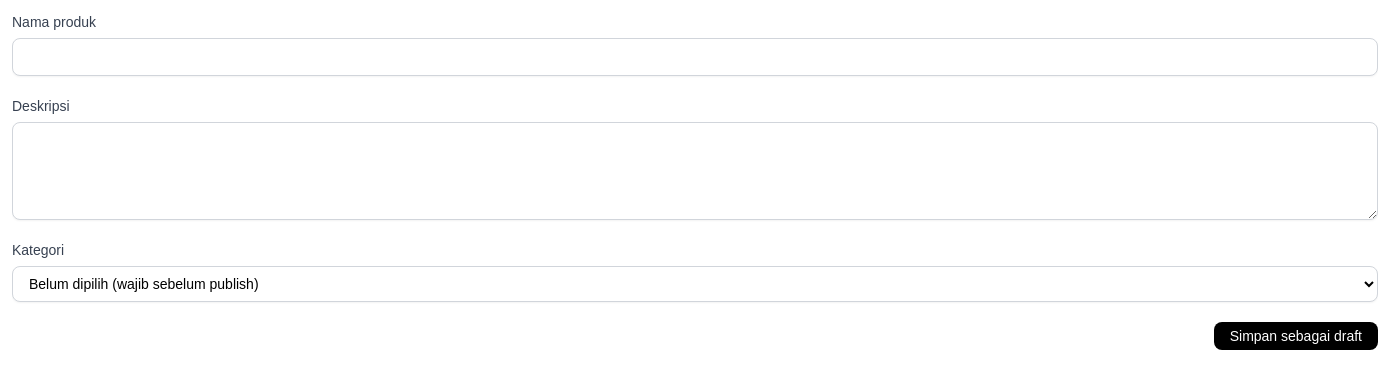
Test: ProductCreateForm › Alur Submit Sukses › mengirim payload terformat, invalidate cache, reset form, dan memanggil onSuccess
Type "  Keyboard Mekanikal  " into the field labelled "Nama produk" at (695, 57), box top-left (12, 38), bottom-right (1378, 76)
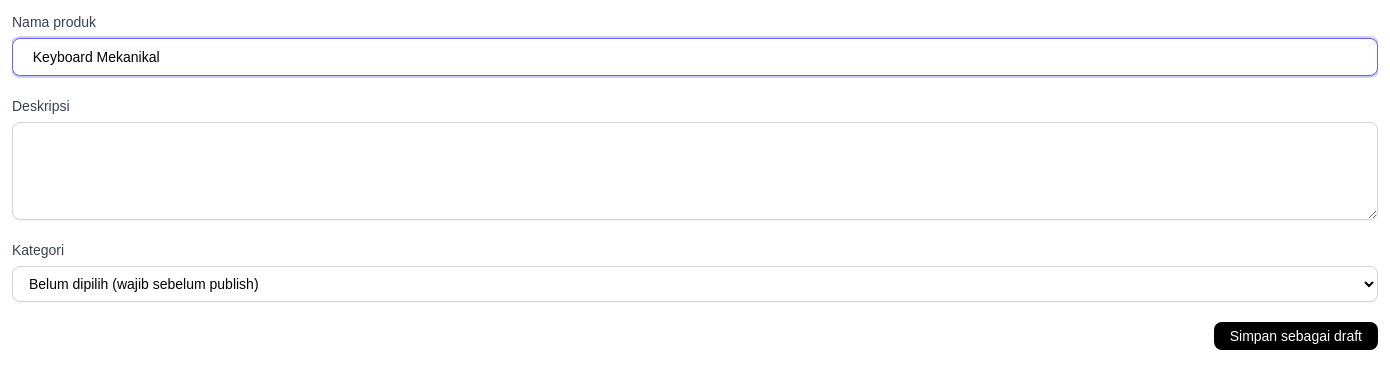
Type "  Switch tactile  " into the text box labelled "Deskripsi" at (695, 171), box top-left (12, 122), bottom-right (1378, 220)
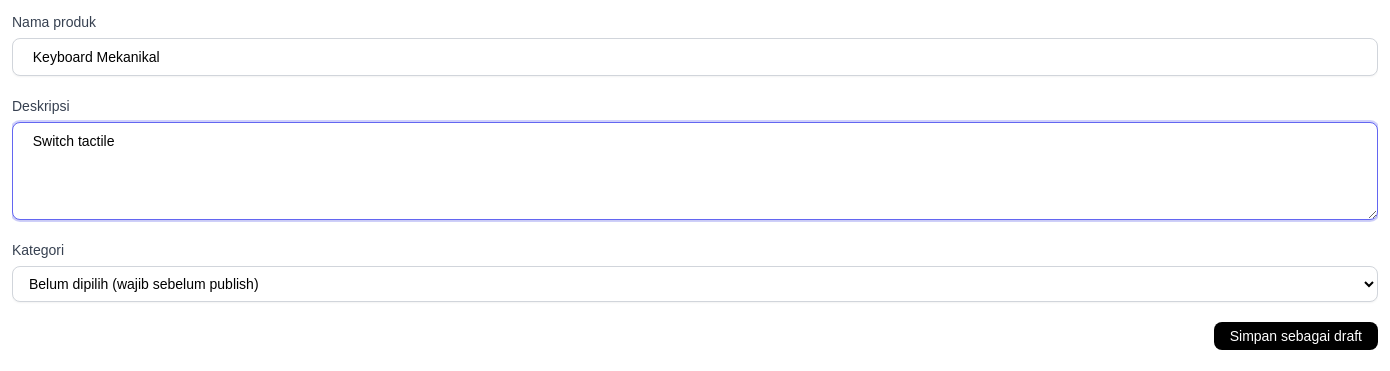
Select "Elektronik" in the dropdown labelled "Kategori" at (695, 284), box top-left (12, 266), bottom-right (1378, 302)
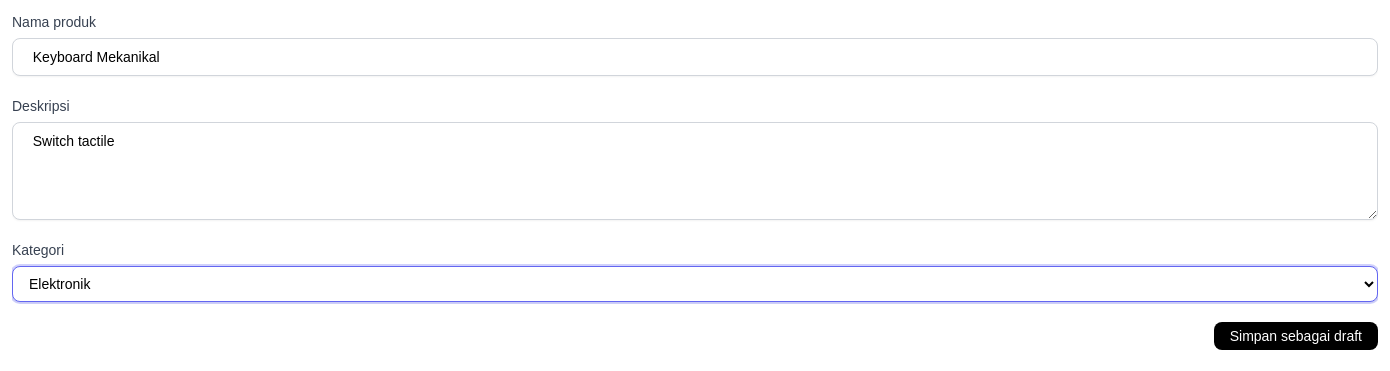
Click the button "Simpan sebagai draft" at (1296, 336), box top-left (1214, 322), bottom-right (1378, 350)
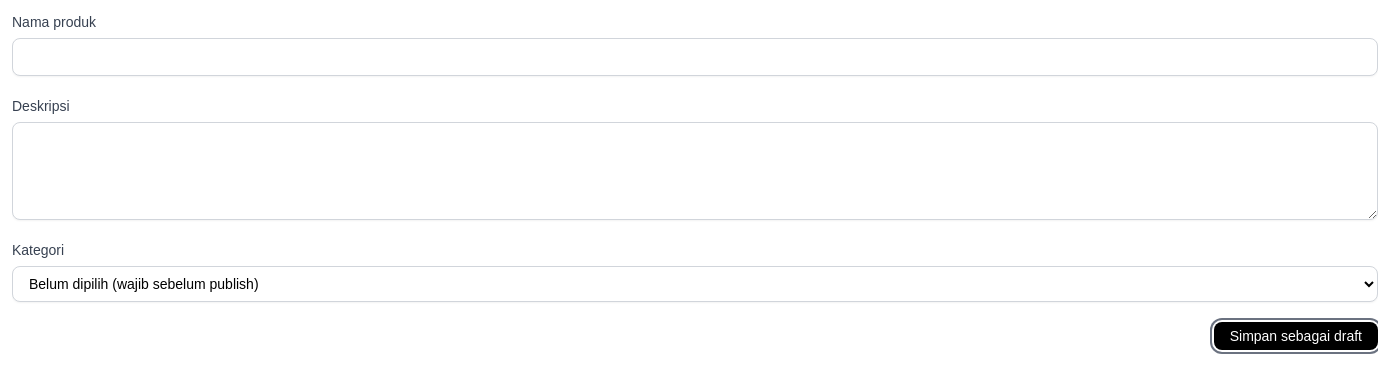
Result: the field labelled "Nama produk" is empty at top-left (12, 38), bottom-right (1378, 76)
Result: the text box labelled "Deskripsi" is empty at top-left (12, 122), bottom-right (1378, 220)
